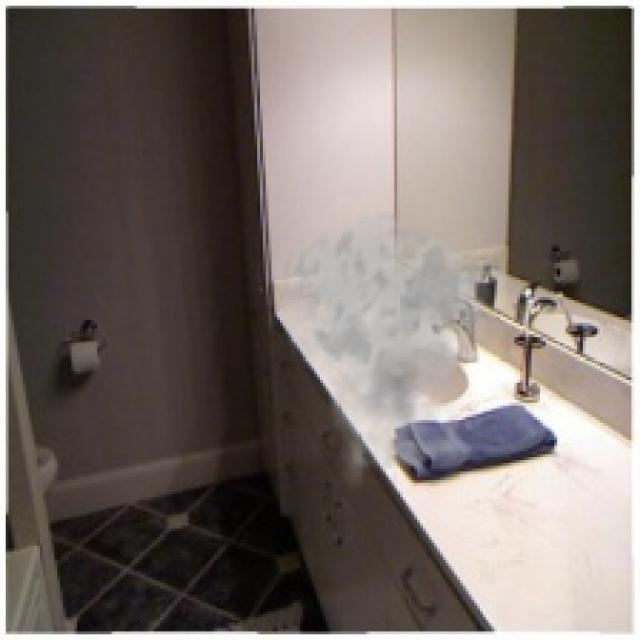Smoke: (268, 208, 512, 492)
